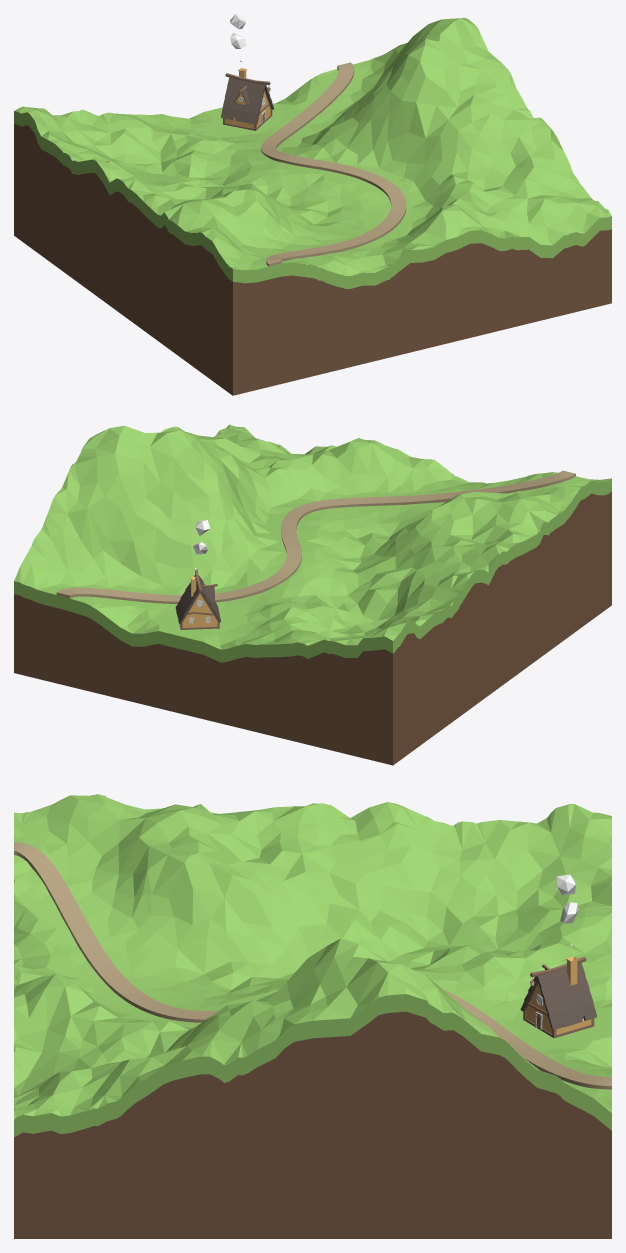
Rendered from Terrain.fbx.
3 views of the same model, one above another, from view 1: azimuth 30°, elevation 25°; view 2: azimuth 150°, elevation 25°; view 3: azimuth 270°, elevation 25° (orthographic). The views are drawn at different scales.
Visible parts, largest first — view 1: Surface_Chunk_Clone_, BaseBottomChunkPrefab_Clone__2, BaseBottomChunkPrefab_Clone_, BaseTopChunkPrefab_Clone__2, Road, BaseTopChunkPrefab_Clone_, House_Clone_; view 2: Surface_Chunk_Clone_, BaseBottomChunkPrefab_Clone__3, BaseBottomChunkPrefab_Clone_, Road, BaseTopChunkPrefab_Clone__3, BaseTopChunkPrefab_Clone_, House_Clone_; view 3: Surface_Chunk_Clone_, BaseBottomChunkPrefab_Clone__1, BaseTopChunkPrefab_Clone__1, Road, House_Clone_.
Part boxes in pixels (x1,y1,x2,y2): Surface_Chunk_Clone_: (14,17,611,275); BaseBottomChunkPrefab_Clone__2: (233,229,611,395); BaseBottomChunkPrefab_Clone_: (14,124,232,395); BaseTopChunkPrefab_Clone__2: (233,216,611,288); Road: (261,62,406,266); BaseTopChunkPrefab_Clone_: (14,111,232,281); House_Clone_: (221,68,274,130); Surface_Chunk_Clone_: (14,424,611,649); BaseBottomChunkPrefab_Clone__3: (14,594,392,765); BaseBottomChunkPrefab_Clone_: (393,491,611,765); Road: (56,470,575,603); BaseTopChunkPrefab_Clone__3: (14,581,392,662); BaseTopChunkPrefab_Clone_: (393,478,611,653); House_Clone_: (175,569,220,629); Surface_Chunk_Clone_: (14,794,611,1119); BaseBottomChunkPrefab_Clone__1: (14,1011,611,1238); BaseTopChunkPrefab_Clone__1: (14,994,611,1137); Road: (14,842,611,1089); House_Clone_: (520,956,597,1038).
Bounding box in the file's own units: 40000 × 19212 × 40000.
